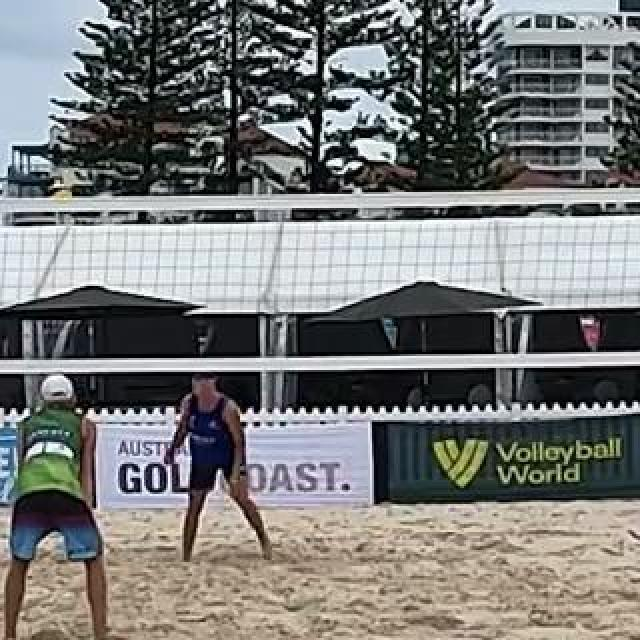volleyball: (46, 181, 72, 203)
